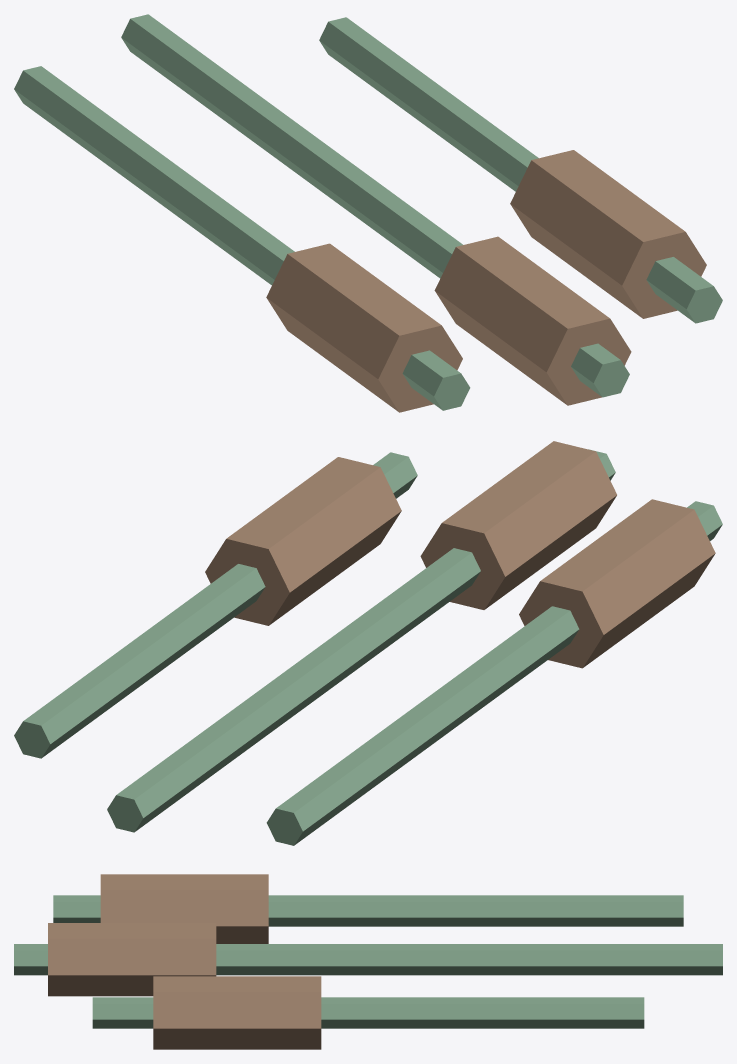
The model's file is cattail.glb.
The picture shows the model from 3 angles, top to bottom: view 1: azimuth 30°, elevation 25°; view 2: azimuth 150°, elevation 25°; view 3: azimuth 270°, elevation 25°; orthographic projection. The views are drawn at different scales.
Visible parts, largest first — view 1: world; view 2: world; view 3: world.
Boxes of the visible parts, <box> form: world: <box>14,14,722,412</box>; world: <box>14,441,722,845</box>; world: <box>14,874,722,1049</box>.
Size of the model in its own units: 0.6 by 0.1212 by 1.35.
